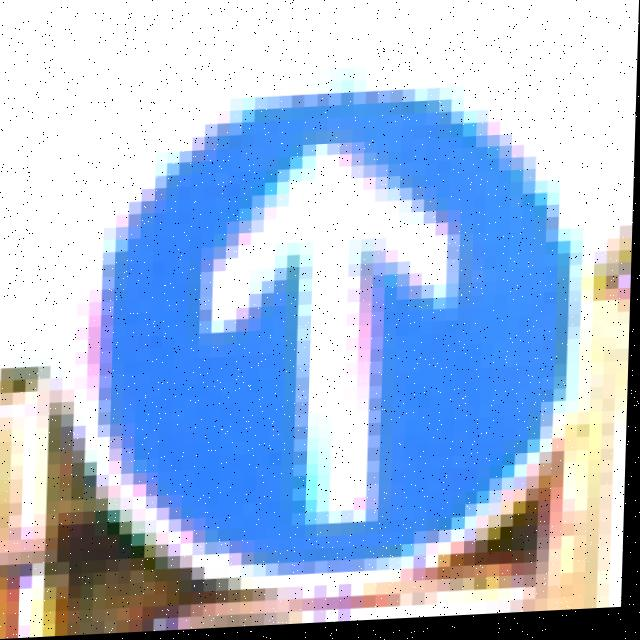compulsory_ahead: (108, 65, 617, 603)
